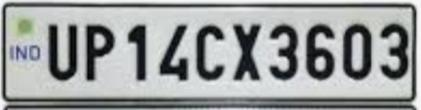0: (340, 18, 376, 81), (377, 20, 410, 81)
1: (125, 19, 152, 82)
3: (267, 19, 303, 83)
4: (157, 22, 190, 83)
6: (300, 25, 336, 82)
C: (195, 25, 225, 81)
P: (82, 21, 115, 82)
U: (48, 17, 79, 83)
X: (232, 20, 264, 87)
